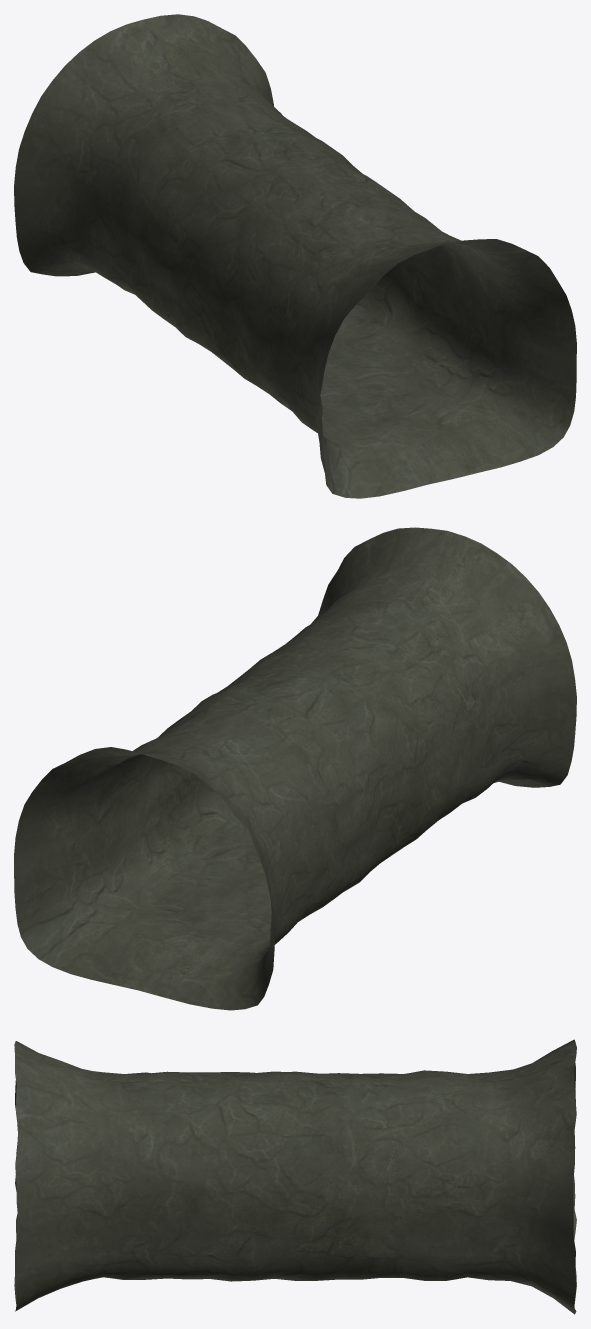
The model's file is tunnelTest_1.fbx.
The picture shows the model from 3 angles, top to bottom: view 1: azimuth 30°, elevation 25°; view 2: azimuth 150°, elevation 25°; view 3: azimuth 270°, elevation 25°; orthographic projection. The views are drawn at different scales.
Parts seen in each view (by area): view 1: lowP_tunnel; view 2: lowP_tunnel; view 3: lowP_tunnel.
Boxes of the visible parts, x1=… form: lowP_tunnel: x1=14, y1=14, x2=576, y2=498; lowP_tunnel: x1=14, y1=527, x2=576, y2=1010; lowP_tunnel: x1=14, y1=1039, x2=576, y2=1314.
Size of the model in its own units: 1195 by 1048 by 2418.
1 material, 1 textured.
